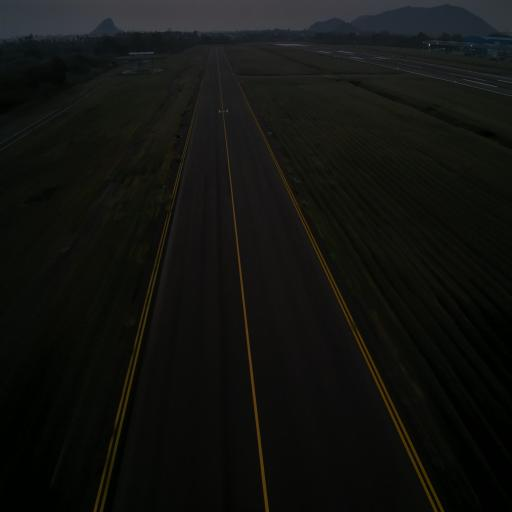on: (160, 182, 166, 191), (293, 174, 298, 183)
